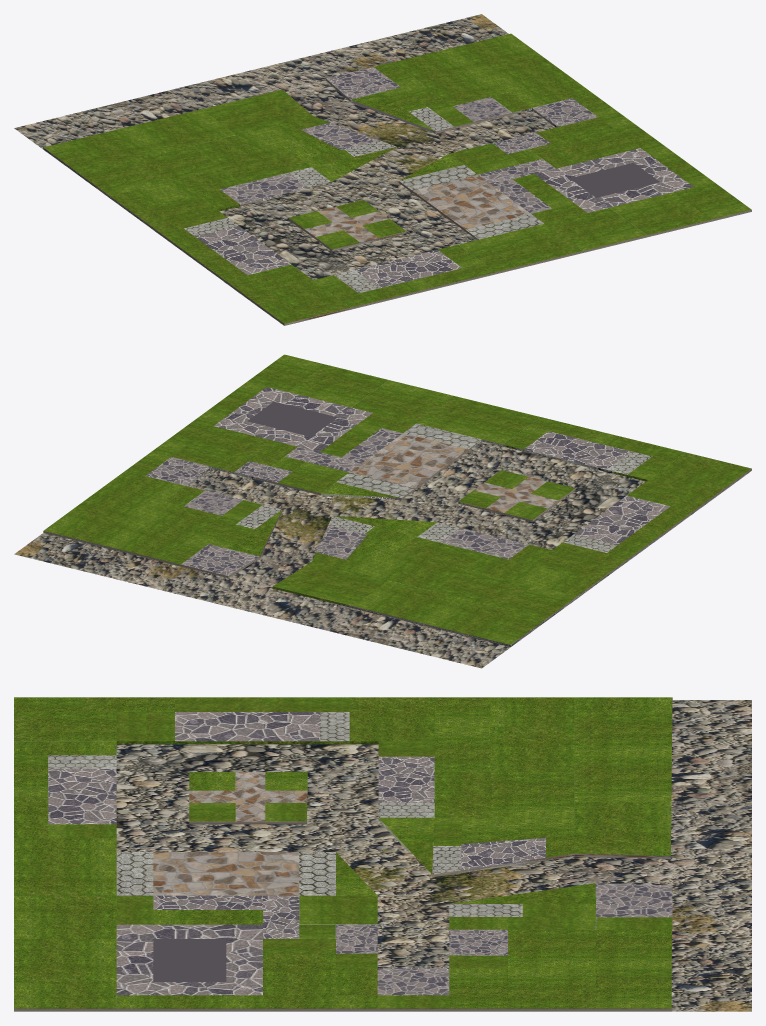
File: textura_escenario.obj
3 renders of one model, top to bottom at view 1: azimuth 30°, elevation 25°; view 2: azimuth 150°, elevation 25°; view 3: azimuth 270°, elevation 25°, orthographic. The views are drawn at different scales.
Parts seen in each view (by area): view 1: Cube_Cube.001, Piso; view 2: Cube_Cube.001, Piso; view 3: Cube_Cube.001, Piso.
Boxes of the visible parts, <box> form: Cube_Cube.001: <box>43,33,751,325</box>; Piso: <box>14,14,555,325</box>; Cube_Cube.001: <box>43,354,751,646</box>; Piso: <box>14,441,750,668</box>; Cube_Cube.001: <box>14,697,672,1011</box>; Piso: <box>116,700,751,1011</box>.
Size of the model in its own units: 5000 by 21.48 by 5003.
